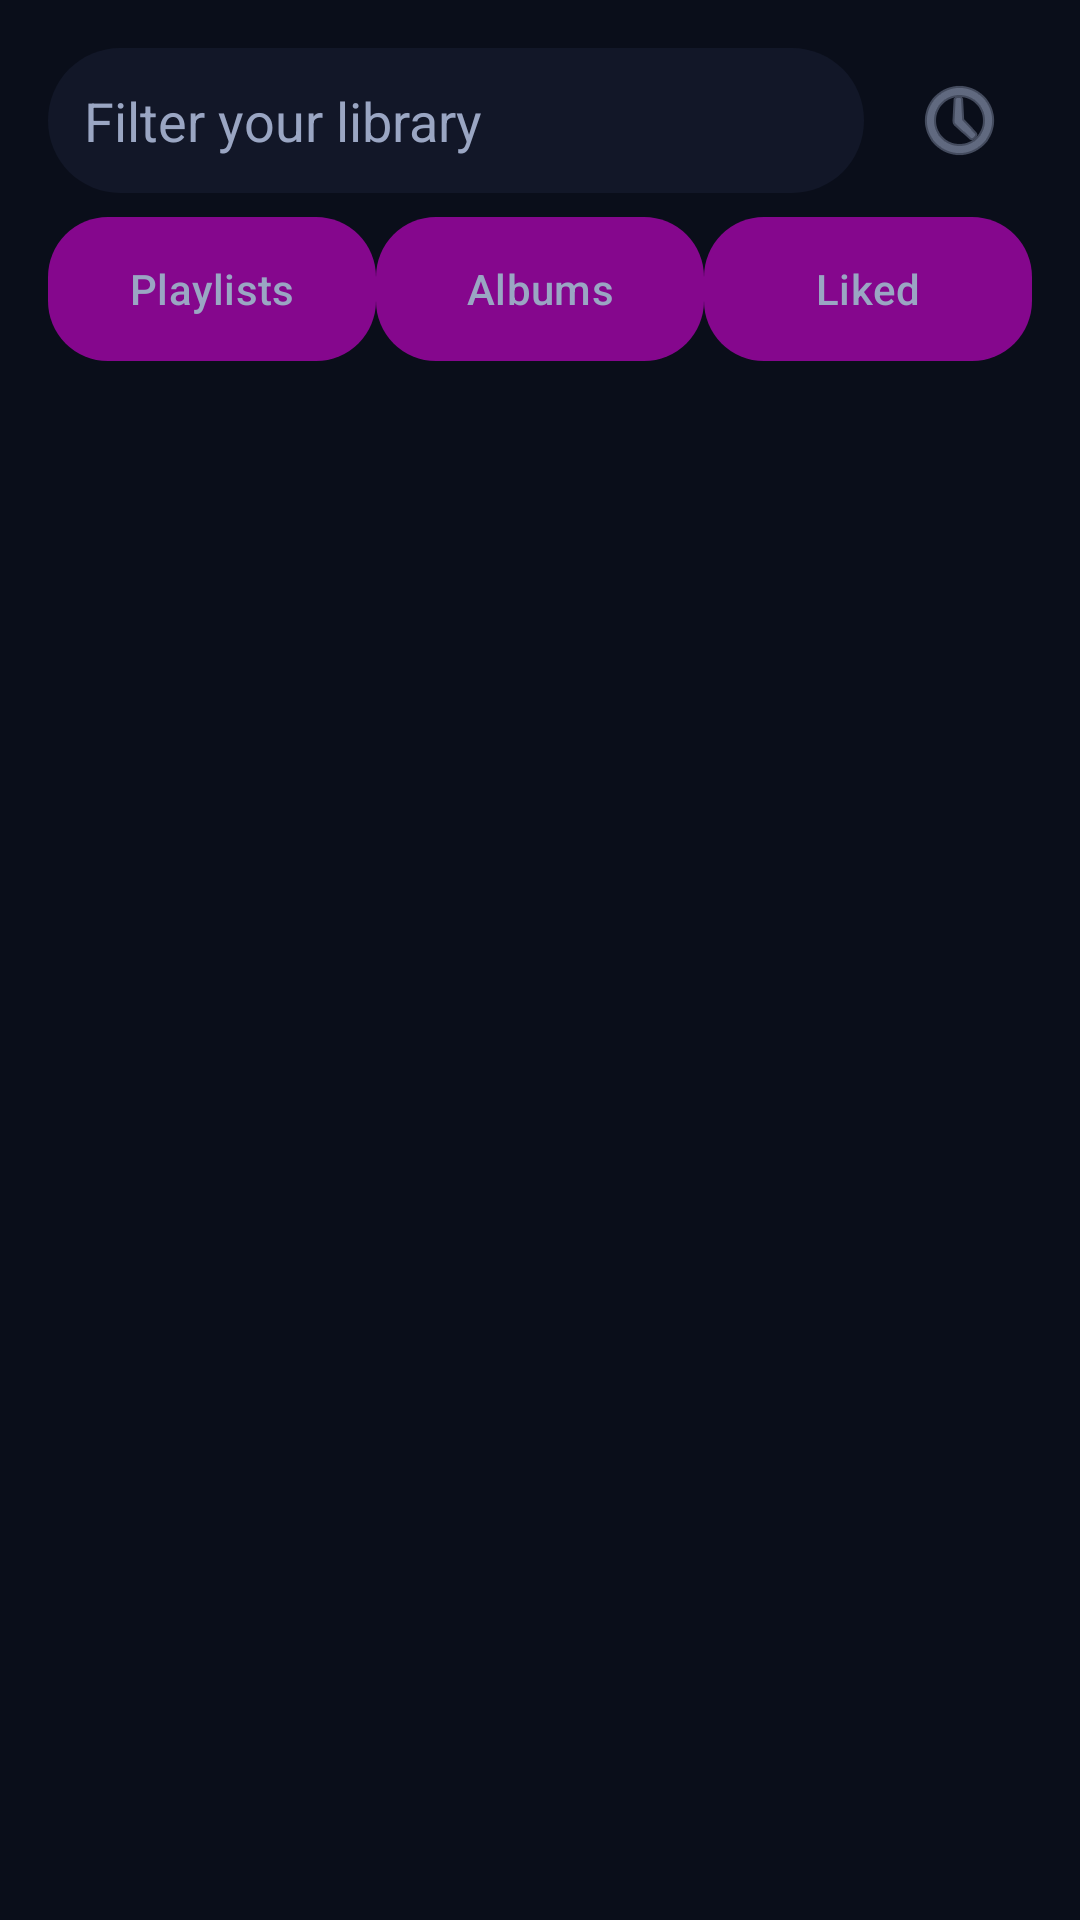

Point at icon controls on the screen. Image size 1080*1920, points as [x,y].
History: [959,120]
